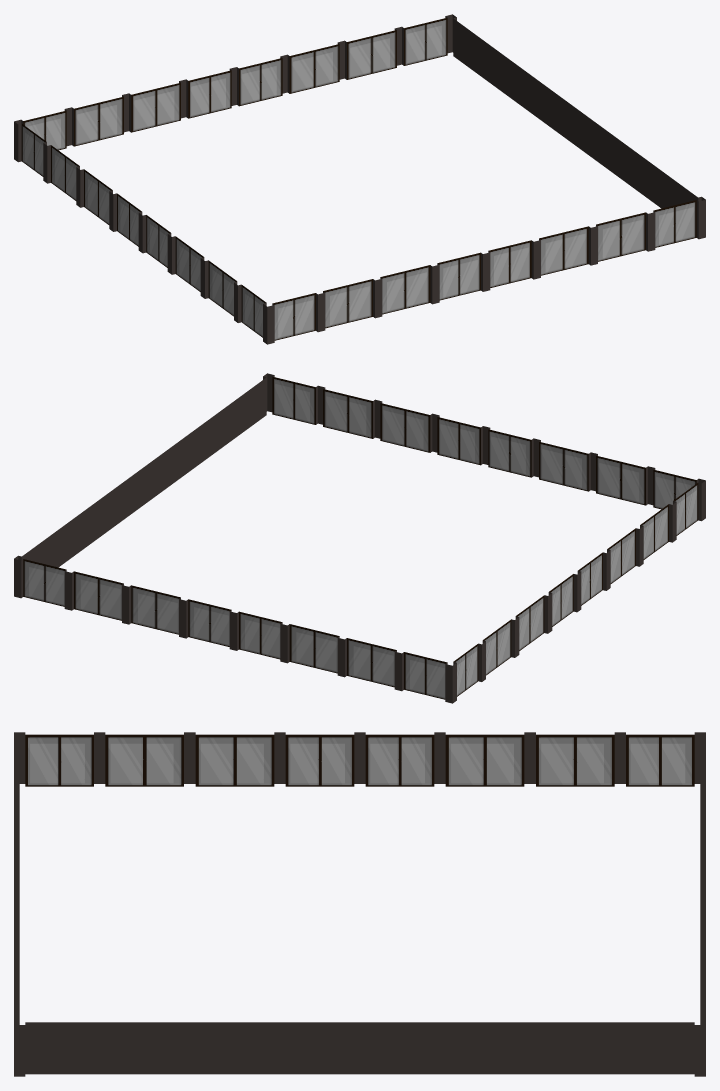
File: BuildingBig5_2.fbx
3 views of the same model, one above another, from view 1: azimuth 30°, elevation 25°; view 2: azimuth 150°, elevation 25°; view 3: azimuth 270°, elevation 25° (orthographic). The views are drawn at different scales.
Visible parts, largest first — view 1: BuildingBig5_2; view 2: BuildingBig5_2; view 3: BuildingBig5_2.
Boxes of the visible parts, box(x1,y1,x2,y2) form: BuildingBig5_2: box(14, 14, 705, 344); BuildingBig5_2: box(14, 373, 705, 703); BuildingBig5_2: box(14, 732, 705, 1076).
Size of the model in its own units: 6060 by 500 by 6060.
